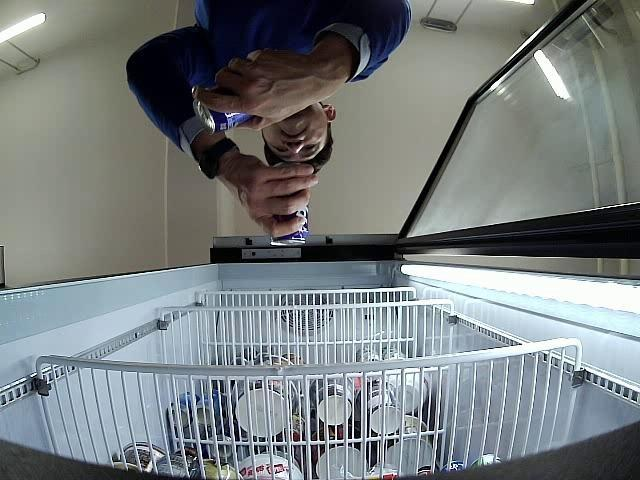14_welchsGrape: (270, 163, 308, 246), (196, 88, 256, 136)
